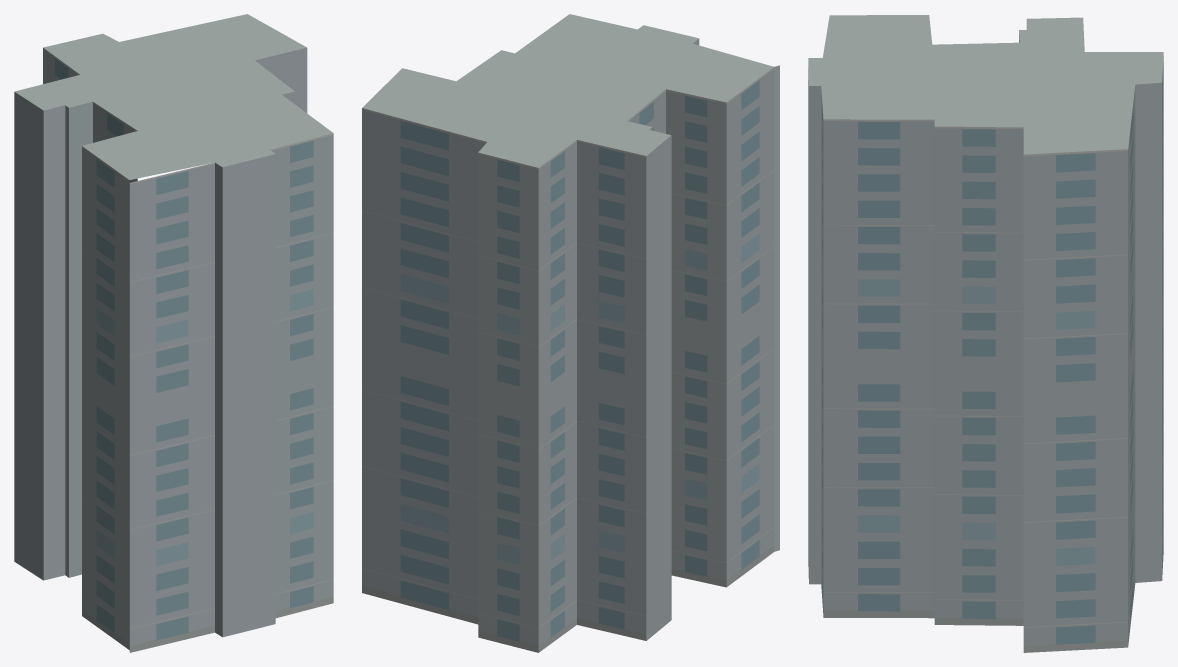
The model's file is survey-upis-32486159.glb.
3 views of the same model, side by side, from view 1: azimuth 30°, elevation 25°; view 2: azimuth 150°, elevation 25°; view 3: azimuth 270°, elevation 25° (orthographic). The views are drawn at different scales.
Visible parts, largest first — view 1: survey-upis-32486159.tmp; view 2: survey-upis-32486159.tmp; view 3: survey-upis-32486159.tmp.
Part boxes in pixels (x1,y1,x2,y2): survey-upis-32486159.tmp: (14, 14, 333, 652); survey-upis-32486159.tmp: (362, 14, 779, 652); survey-upis-32486159.tmp: (808, 15, 1163, 652).
Bounding box in the file's own units: 43.56 × 72 × 46.55.
